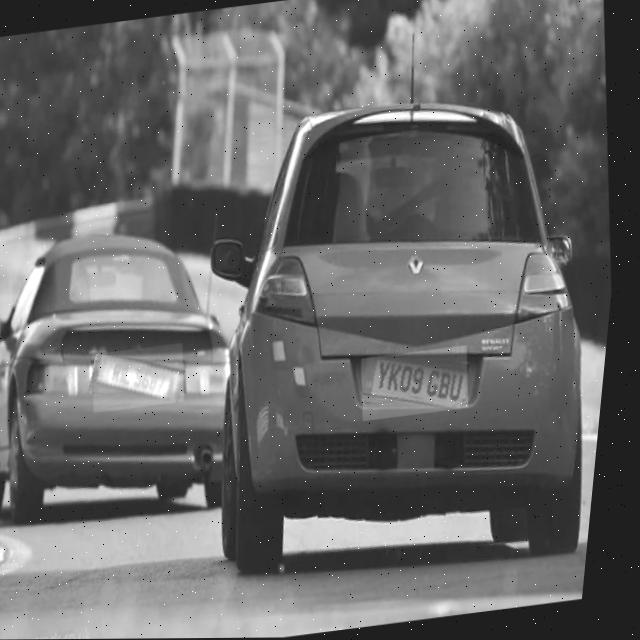LicensePlate: (370, 357, 475, 409), (100, 354, 191, 402)
